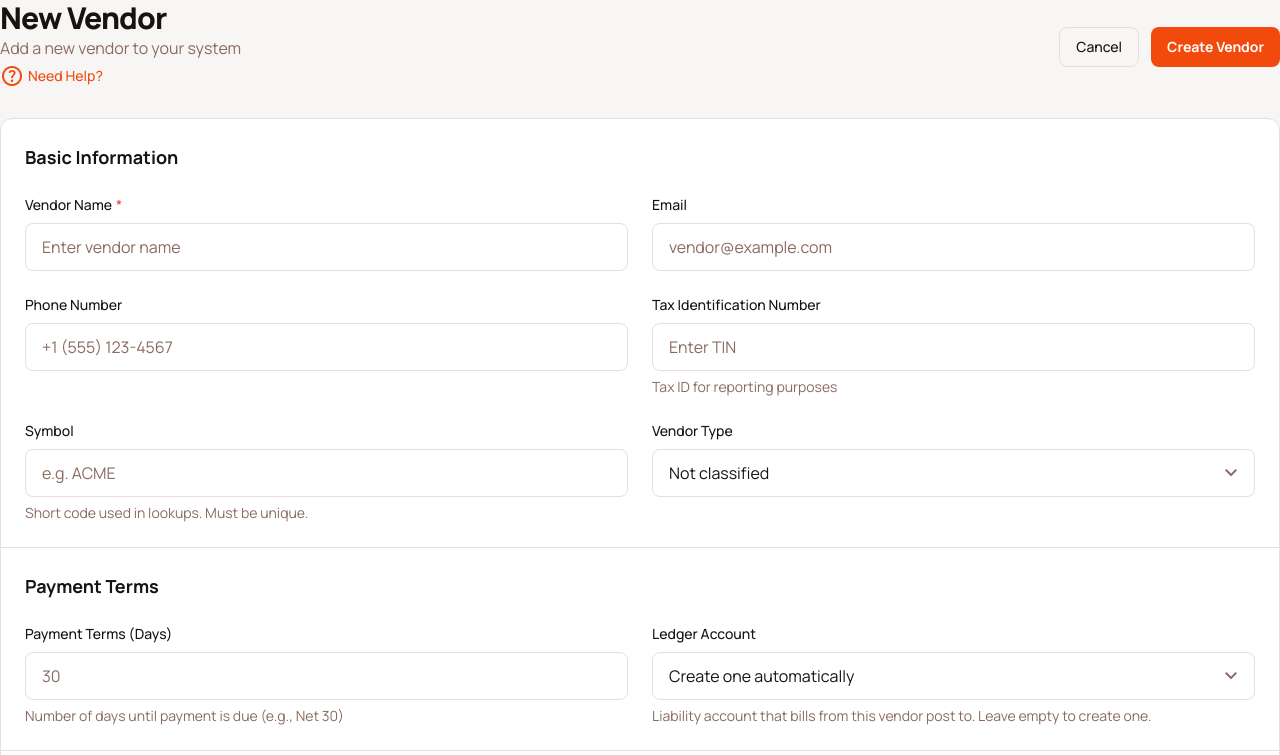
Scenario: VendorFormPage module-aware errors (SOUPFIN-160) › save › explains a disabled module instead of the HTTP status
Type "Acme Supplies" into the field with test id "vendor-form-name". click: (326, 247)
box: [25,223,628,271]
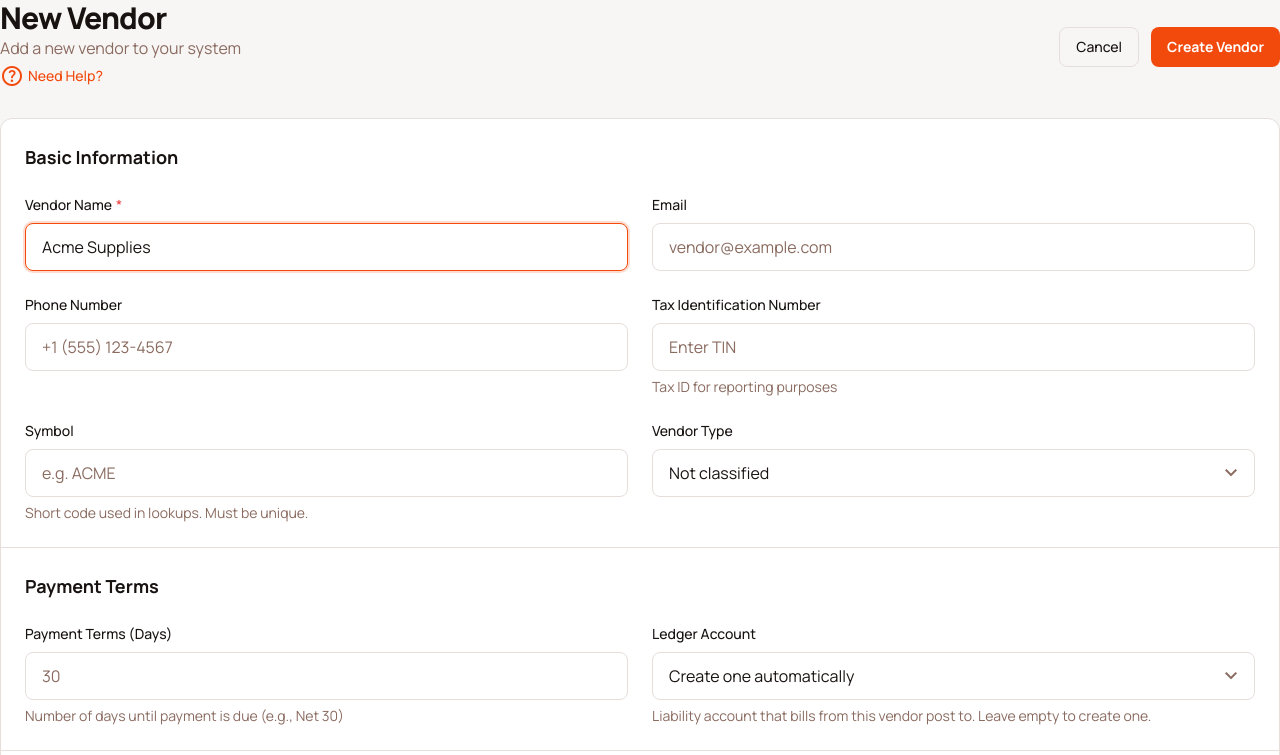
Click the button with test id "vendor-form-save". click: (1216, 47)
box: [1151,27,1279,67]
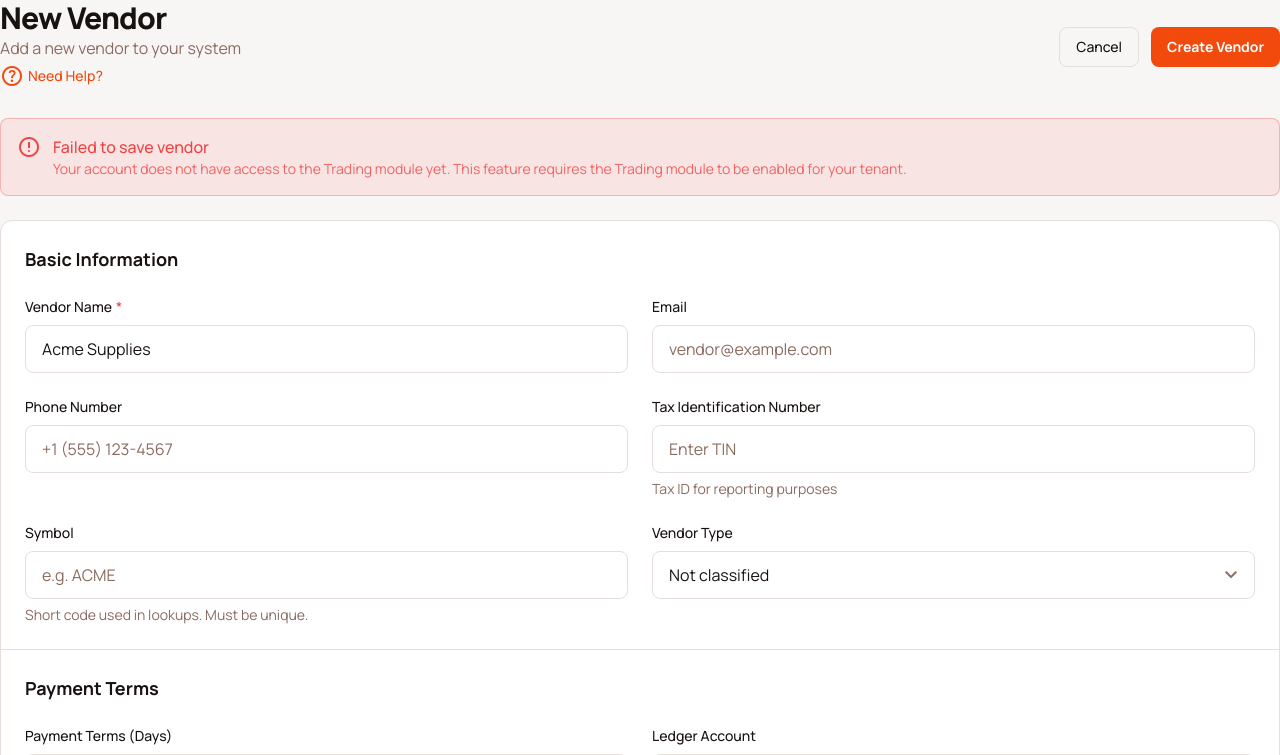
Expected: the element with test id "vendor-form-error" does not show "status code", [0,118,1279,196]
Expected: the element with test id "vendor-form-error" shows "Failed to save vendor", [53,136,209,158]
Expected: the element with test id "vendor-form-error" shows "Trading module", [53,159,906,178]
